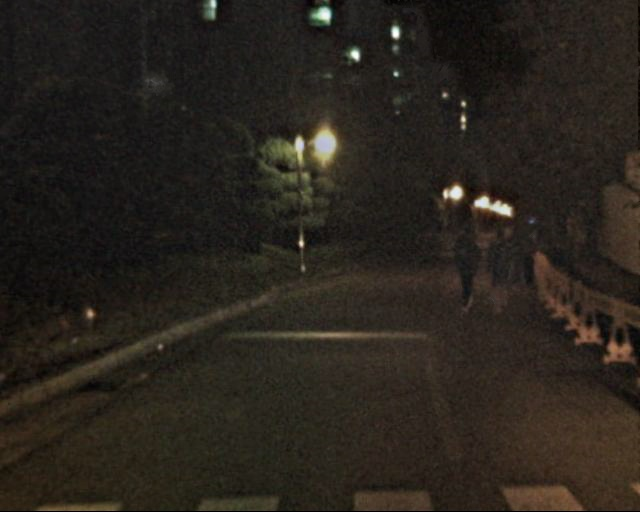person: (445, 228, 482, 319), (478, 230, 514, 317), (508, 221, 531, 278), (521, 227, 541, 276)
